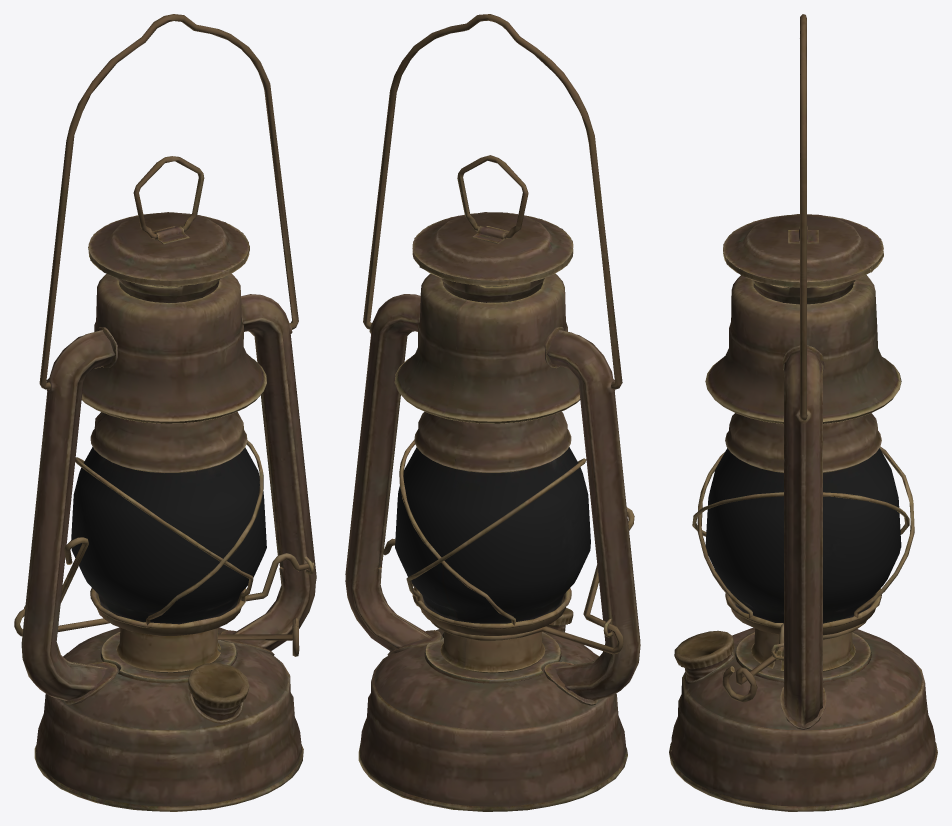
The model's file is Lantern_01.glb.
The picture shows the model from 3 angles, left to right: view 1: azimuth 30°, elevation 25°; view 2: azimuth 150°, elevation 25°; view 3: azimuth 270°, elevation 25°; orthographic projection.
Parts seen in each view (by area): view 1: Lantern_01, Lantern_01_glass; view 2: Lantern_01, Lantern_01_glass; view 3: Lantern_01, Lantern_01_glass.
Boxes of the visible parts, <box> form: Lantern_01: <box>14,14,316,811</box>; Lantern_01_glass: <box>71,447,266,624</box>; Lantern_01: <box>345,14,640,811</box>; Lantern_01_glass: <box>395,447,590,623</box>; Lantern_01: <box>669,14,937,811</box>; Lantern_01_glass: <box>705,448,901,623</box>.
Bounding box in the file's own units: 0.1222 × 0.2941 × 0.0971.
Materials: 2 (2 with a texture image).
